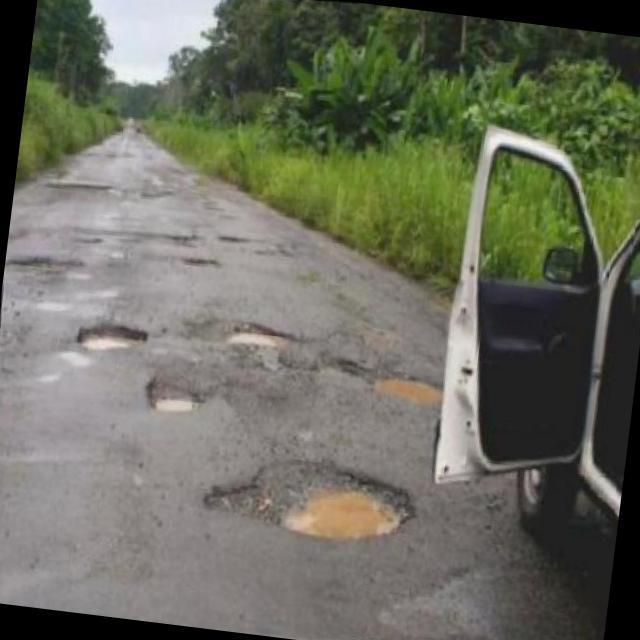Pothole: (204, 459, 415, 545), (145, 371, 206, 414), (370, 376, 443, 409), (74, 323, 149, 351), (229, 322, 295, 350)
